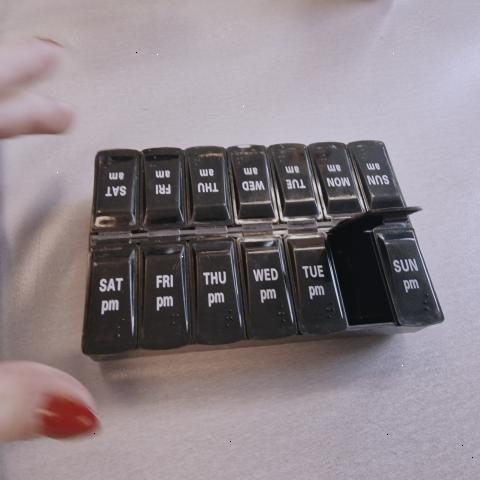Open: (329, 209, 417, 326)
